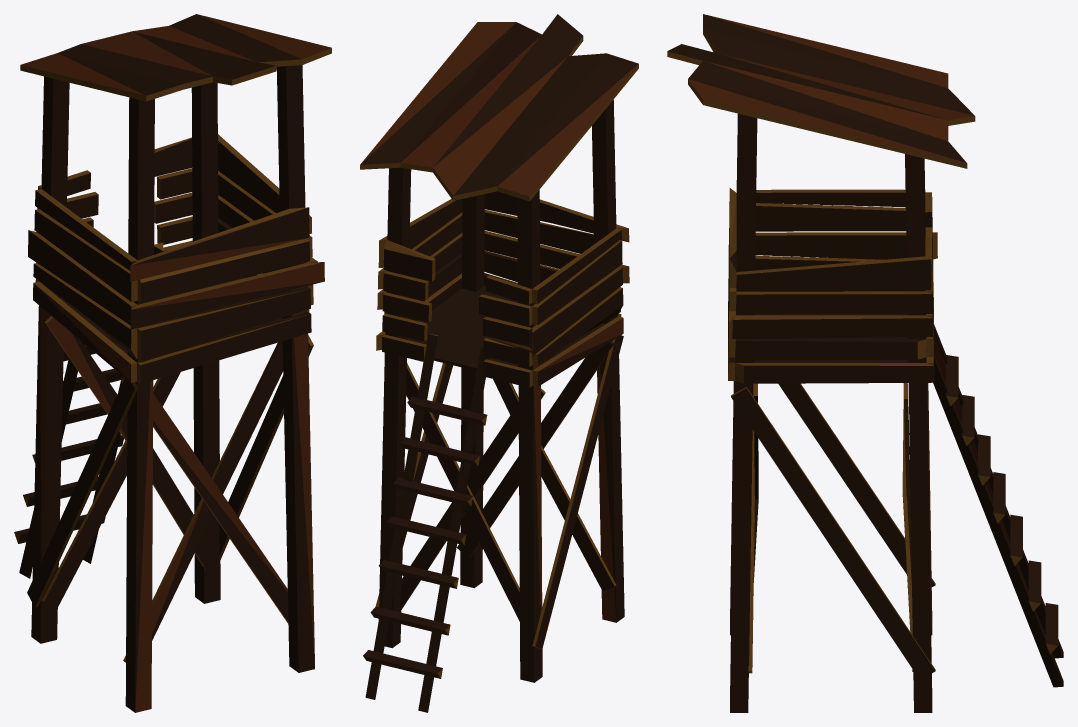
File: Hunting_house.fbx
3 views of the same model, side by side, from view 1: azimuth 30°, elevation 25°; view 2: azimuth 150°, elevation 25°; view 3: azimuth 270°, elevation 25° (orthographic). The views are drawn at different scales.
Visible parts, largest first — view 1: Hunting_house; view 2: Hunting_house; view 3: Hunting_house.
Boxes of the visible parts, x1,y1,x2,y2 form: Hunting_house: (14,14,331,712); Hunting_house: (360,14,638,712); Hunting_house: (667,14,1063,712).
Size of the model in its own units: 238 by 755 by 431.
